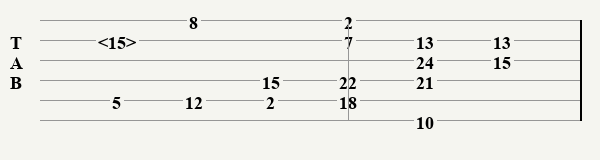10: (416, 112, 438, 128)
12: (185, 92, 207, 108)
13: (416, 32, 438, 48), (493, 32, 515, 48)
15: (262, 72, 284, 88), (493, 52, 515, 68)
18: (339, 92, 361, 108)
2: (266, 92, 279, 108), (344, 12, 357, 28)
21: (416, 72, 438, 88)
22: (339, 72, 361, 88)
24: (416, 52, 438, 68)
5: (112, 92, 125, 108)
7: (344, 32, 357, 48)
8: (189, 12, 202, 28)
harmonic: (98, 32, 140, 48)
